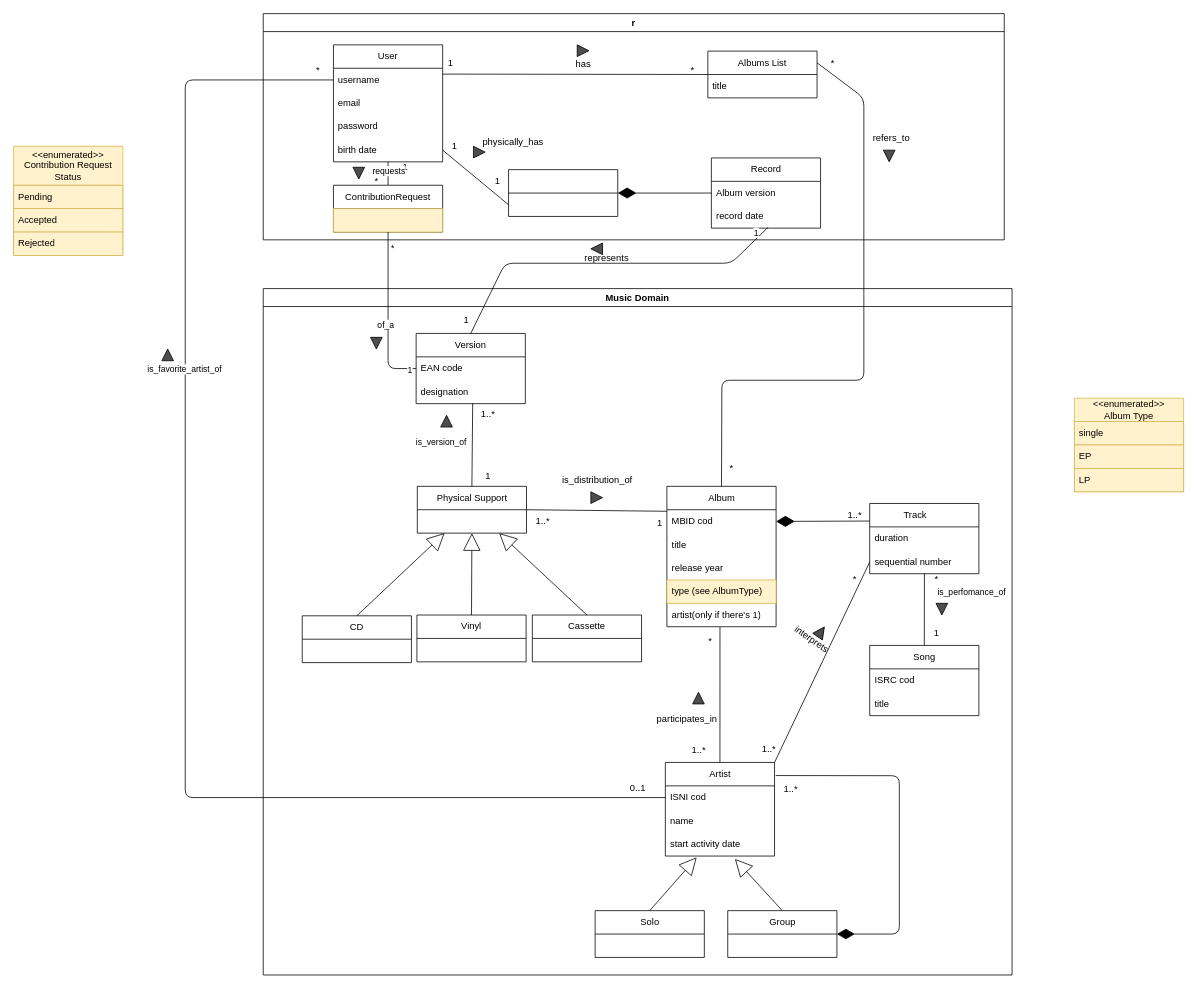
Some shapes in this 1197 by 989 pixel diagram are drawn without their labels. Each missing label, with the centre of its shape:
"Albums Collection" goes at point 563,192.
"Status (seem types)" goes at point 388,220.
